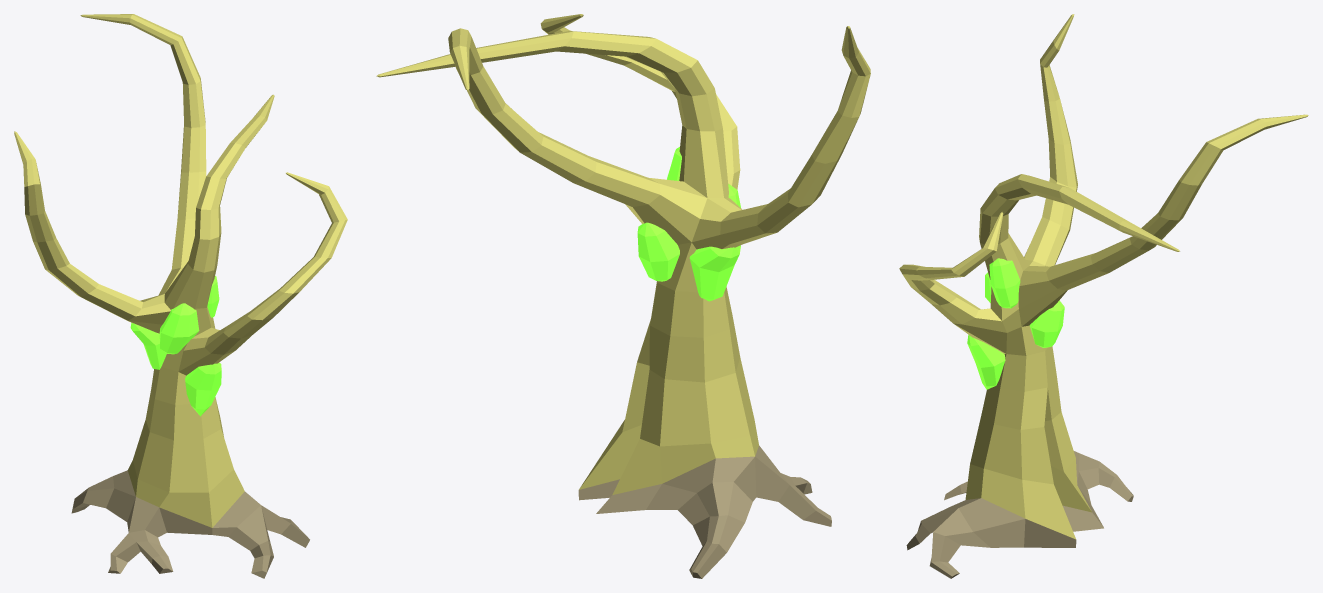
File: Tree_19_Var_05.fbx
3 renders of one model, left to right at view 1: azimuth 30°, elevation 25°; view 2: azimuth 150°, elevation 25°; view 3: azimuth 270°, elevation 25°, orthographic. The views are drawn at different scales.
Visible parts, largest first — view 1: Tree_19_Var_05; view 2: Tree_19_Var_05; view 3: Tree_19_Var_05.
Boxes of the visible parts, <box> form: Tree_19_Var_05: <box>14,14,347,578</box>; Tree_19_Var_05: <box>376,14,870,578</box>; Tree_19_Var_05: <box>899,14,1308,578</box>.
Bounding box in the file's own units: 3.84 × 4.66 × 3.55.
